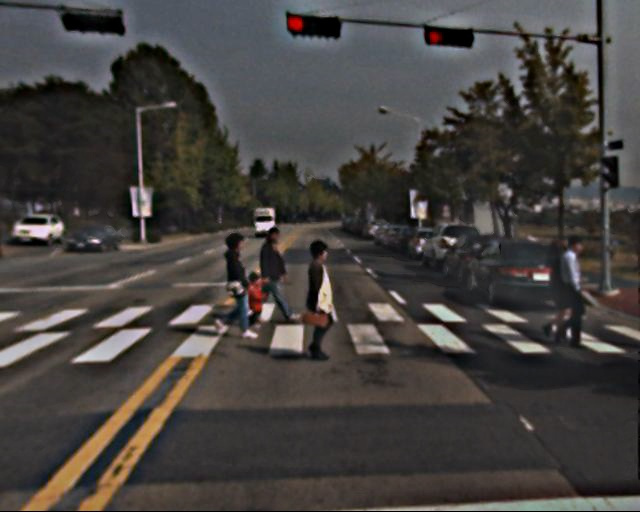person: (294, 240, 345, 365), (550, 234, 597, 349), (215, 230, 258, 336), (540, 241, 582, 344), (254, 228, 292, 321)
